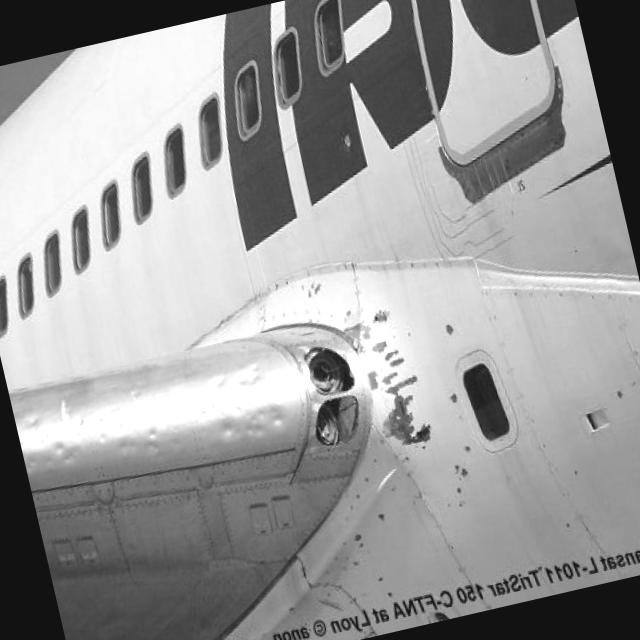dent: (13, 353, 293, 494)
